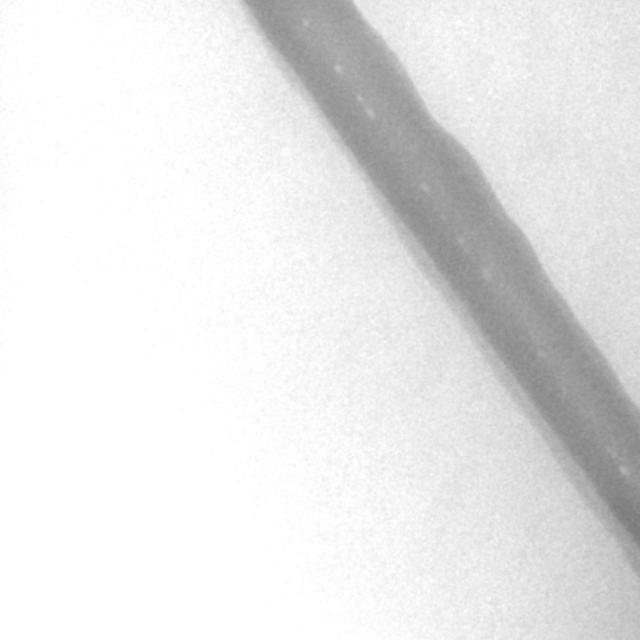air-hole: (620, 465, 628, 477), (538, 348, 545, 359), (367, 108, 375, 117), (422, 181, 428, 192), (482, 268, 488, 278), (336, 66, 344, 73), (458, 236, 464, 245), (608, 449, 614, 458), (303, 17, 310, 24), (444, 215, 448, 225), (358, 95, 362, 100), (435, 206, 437, 210)
